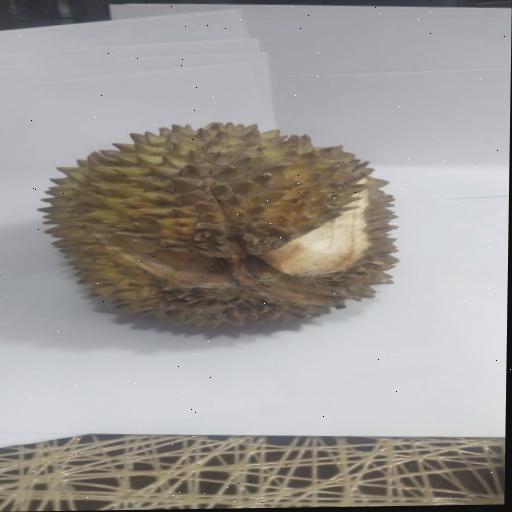rot: (15, 104, 430, 350)
